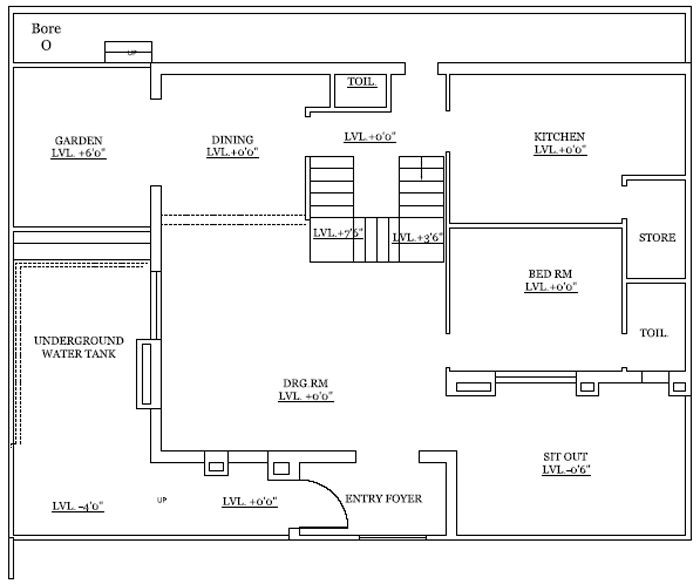door: (297, 471, 355, 532)
room: (441, 63, 692, 226), (449, 219, 628, 387), (152, 62, 312, 225), (623, 176, 690, 282), (622, 278, 690, 377), (328, 61, 392, 109)
